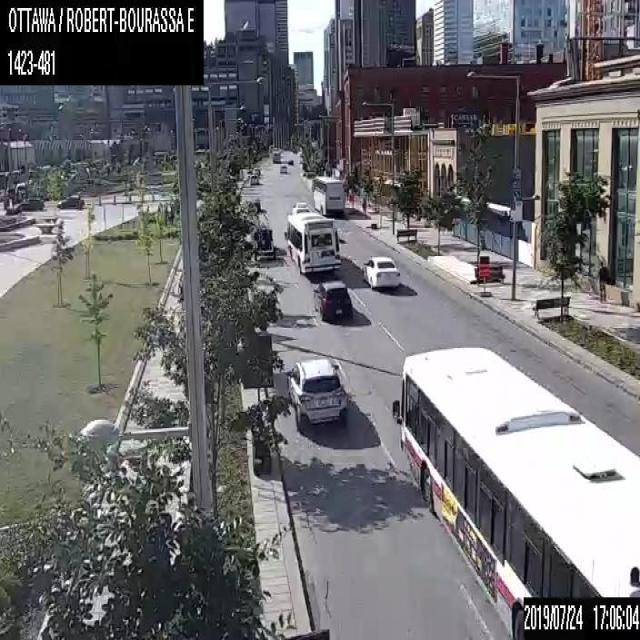bus: (390, 344, 639, 639), (283, 202, 341, 274), (310, 175, 343, 215)
construction: (240, 335, 273, 472), (477, 260, 489, 296)
pedestrian: (598, 259, 606, 300), (360, 195, 364, 209)
vehicle: (521, 594, 639, 638), (286, 356, 348, 425), (312, 276, 352, 319), (362, 252, 400, 288), (252, 225, 274, 260), (55, 194, 83, 210), (19, 195, 43, 209), (272, 148, 283, 162), (249, 173, 257, 184), (279, 164, 287, 174), (253, 167, 259, 174), (286, 158, 292, 164)
